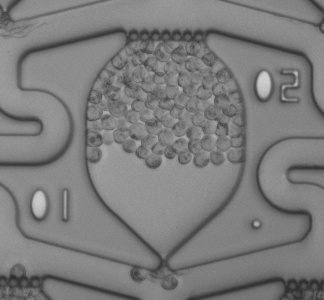AptNum: (251, 63, 304, 110)
Marker: (248, 213, 266, 233)
StNum: (24, 183, 76, 226)
